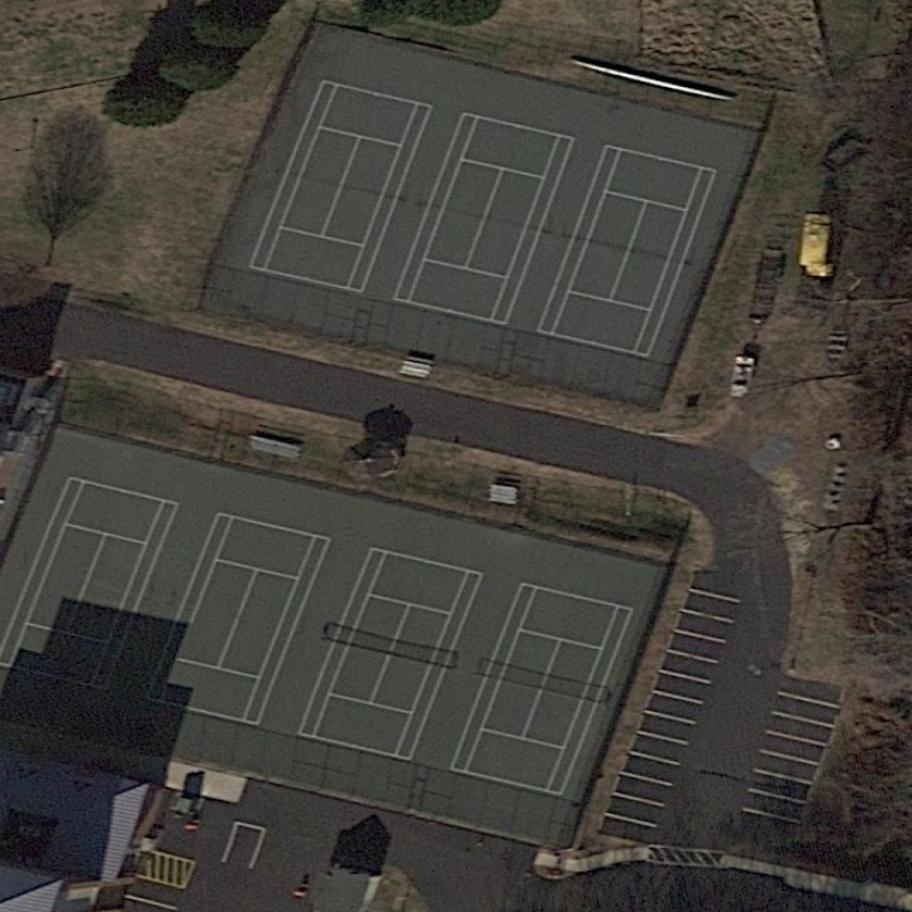large-vehicle: (796, 213, 842, 279)
